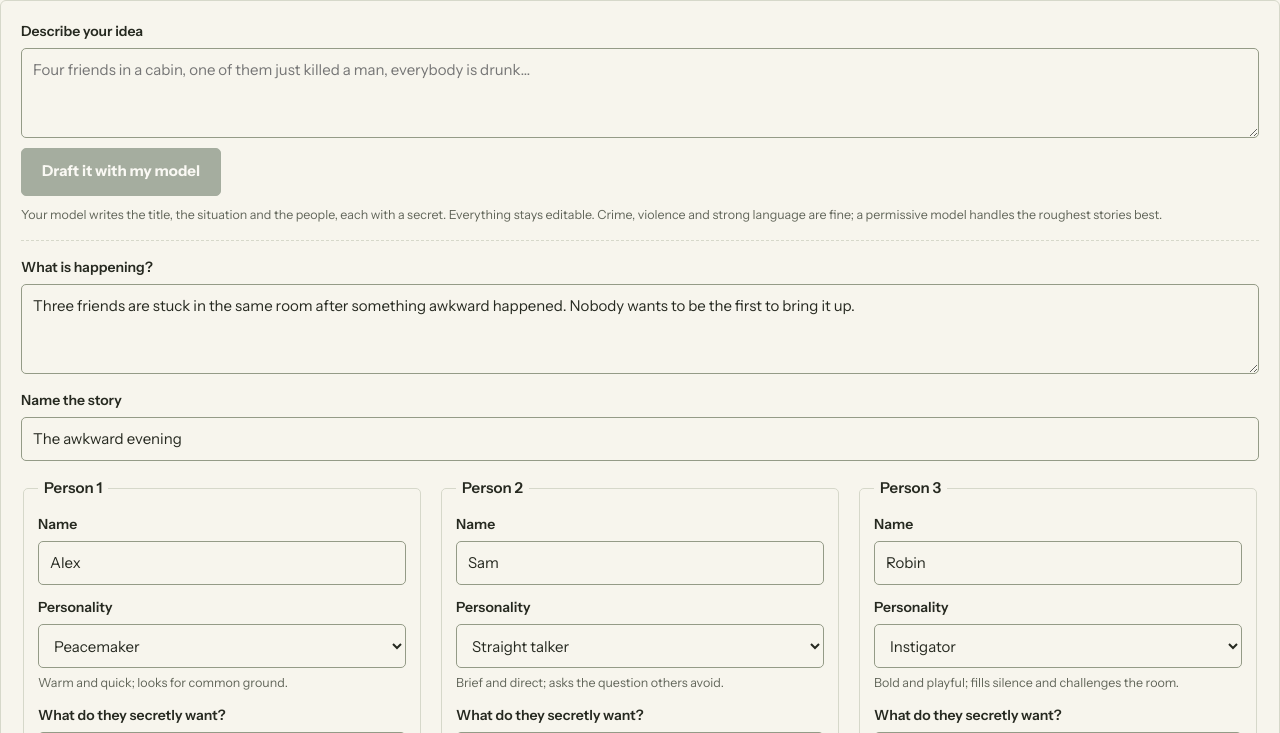
Scenario: drafting a story from an idea › says what went wrong and keeps what was already there
Replace the text in the text box labelled "Describe your idea" with "a killing in a snowed-in cabin". click: (640, 93)
box: [21, 48, 1259, 138]
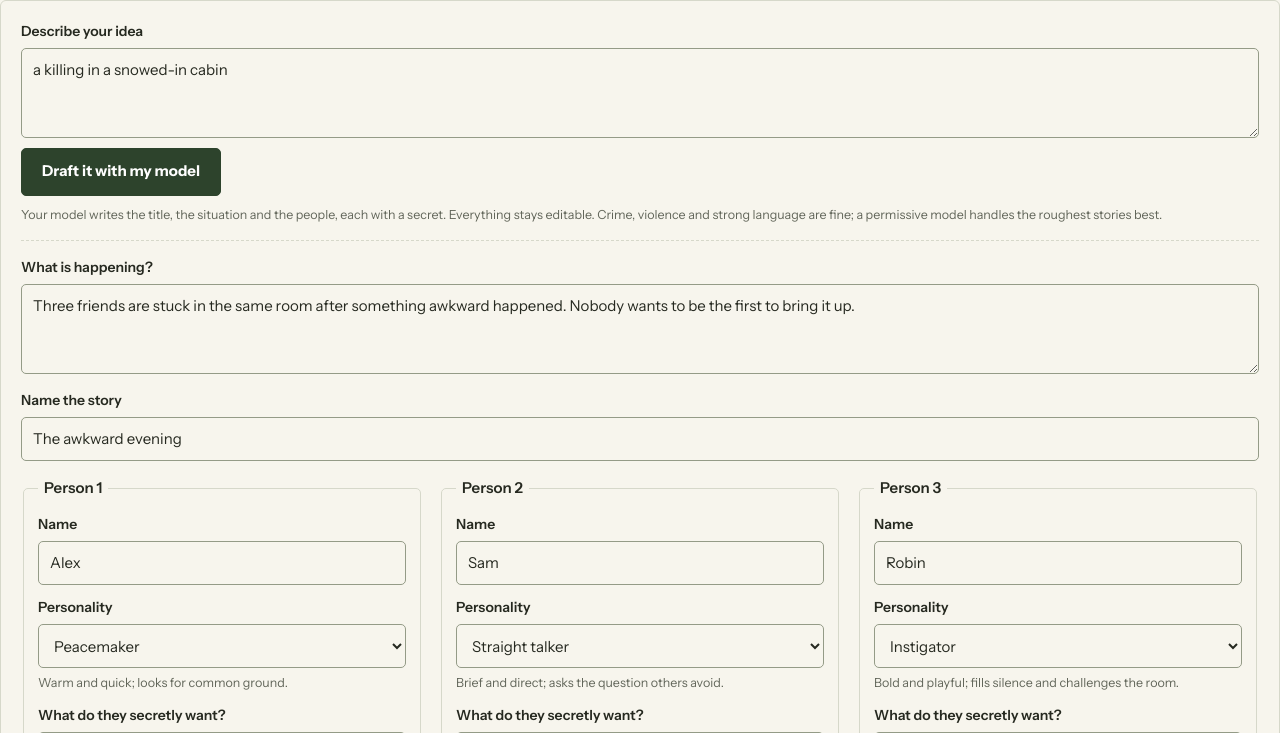
Click the button "Draft it with my model". click: (121, 172)
box: [21, 148, 221, 196]
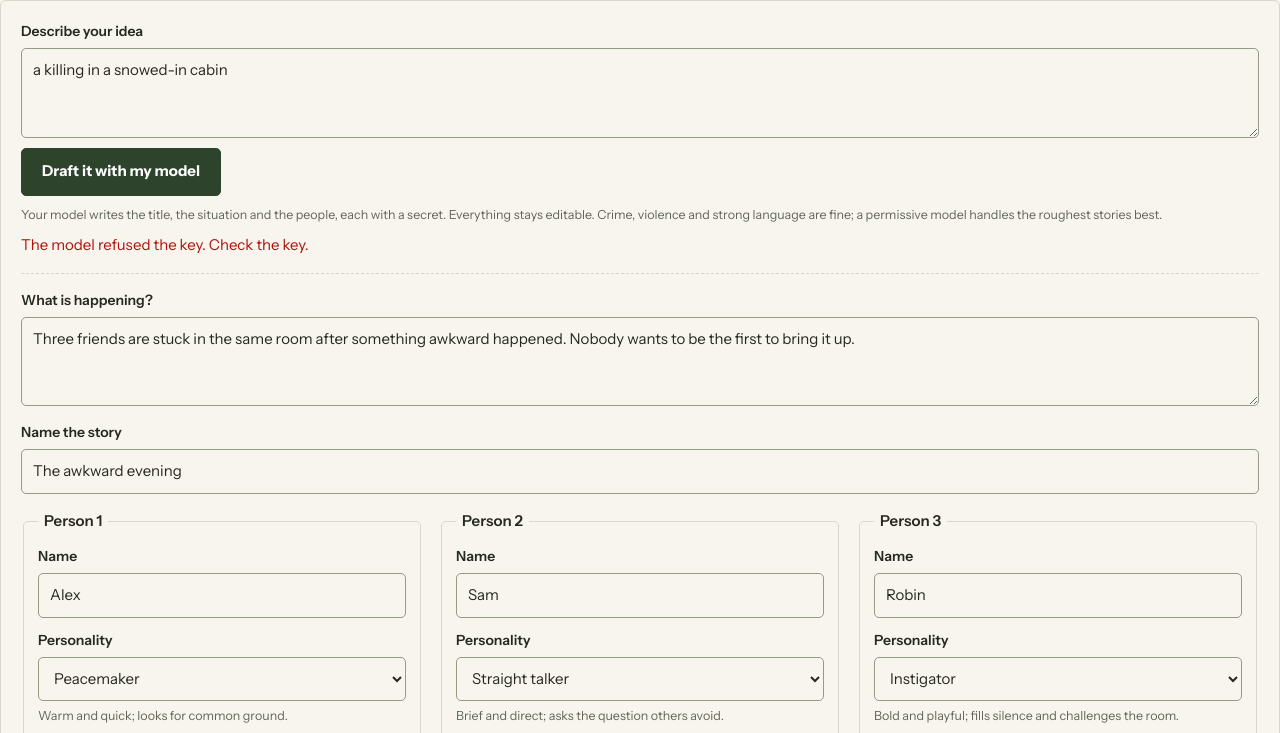
expect the field labelled "Name the story" holds "The awkward evening": met, box [21, 449, 1259, 494]
expect the message shows "refused the key": met, box [21, 235, 206, 254]
